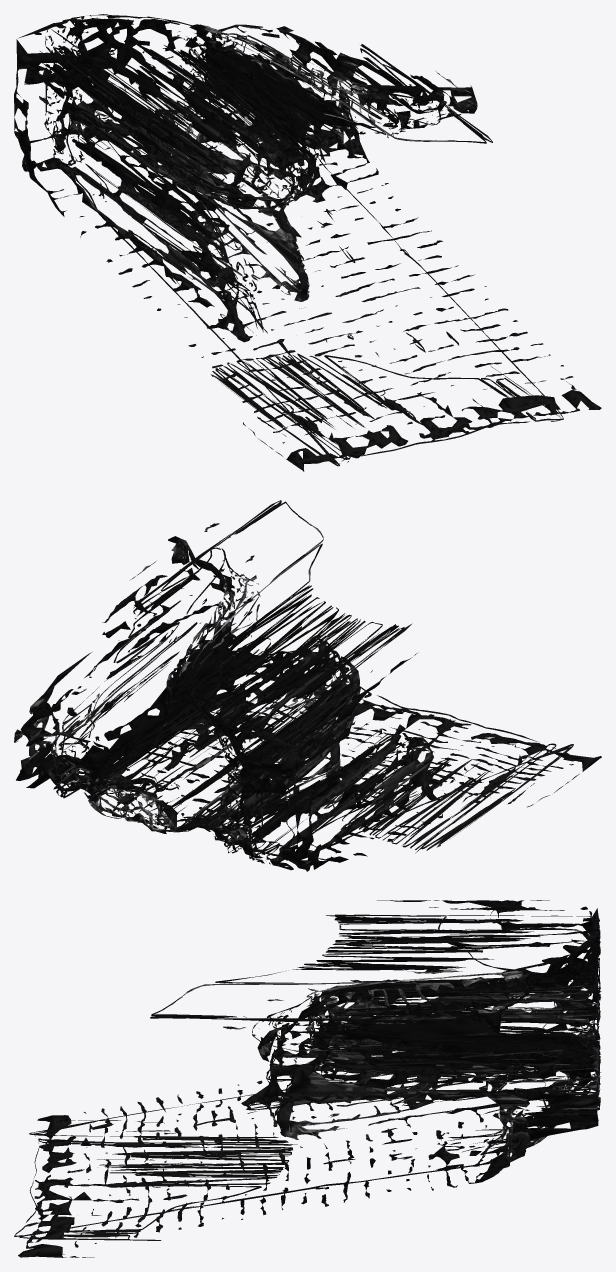
File: artifact.glb
The picture shows the model from 3 angles, top to bottom: view 1: azimuth 30°, elevation 25°; view 2: azimuth 150°, elevation 25°; view 3: azimuth 270°, elevation 25°; orthographic projection. The views are drawn at different scales.
Parts seen in each view (by area): view 1: output2; view 2: output2; view 3: output2.
Boxes of the visible parts, box(x1,y1,x2,y2) form: output2: box(14, 14, 601, 471); output2: box(14, 500, 601, 871); output2: box(14, 900, 601, 1257).
Size of the model in its own units: 2.7 by 2.04 by 4.79.
1 material, 1 textured.
